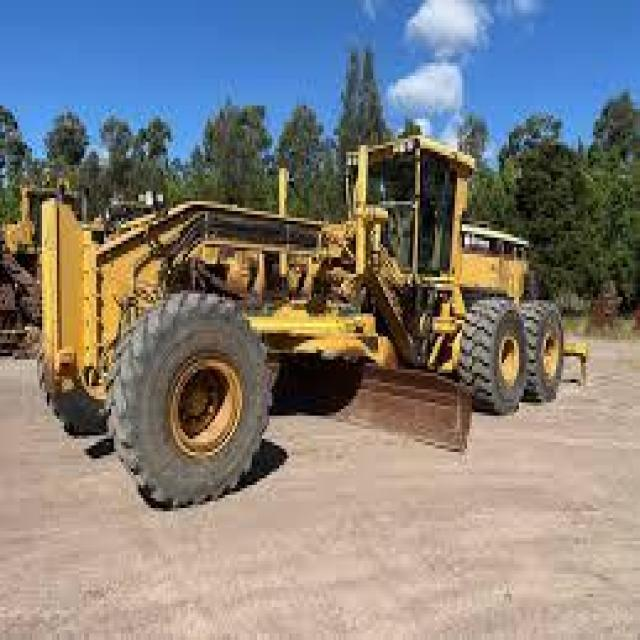Grader: (27, 89, 596, 525)
